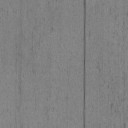surface scratch: (83, 0, 86, 128)
